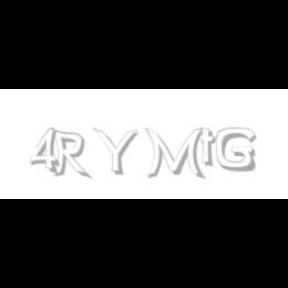4: (29, 128, 60, 174)
G: (216, 128, 256, 172)
M: (144, 128, 204, 180)
R: (51, 128, 89, 180)
Y: (92, 128, 138, 176)
t: (198, 128, 220, 168)
